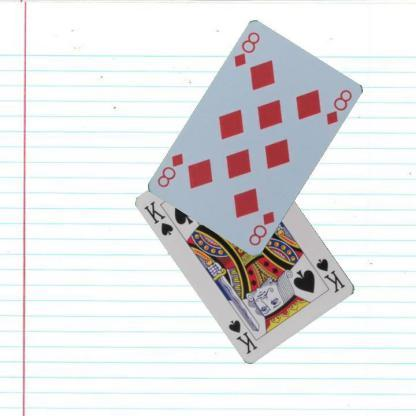8d: (246, 208, 276, 248), (231, 29, 261, 69)
Ks: (141, 198, 176, 238), (314, 256, 348, 294)
